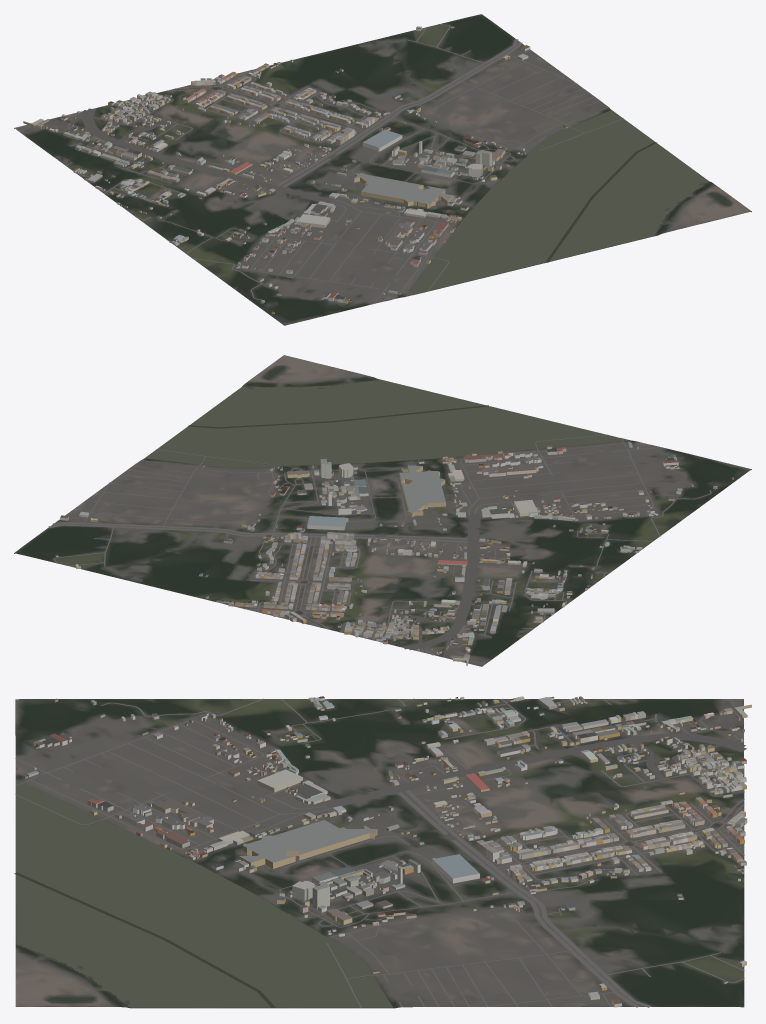
The picture shows the model from 3 angles, top to bottom: view 1: azimuth 30°, elevation 25°; view 2: azimuth 150°, elevation 25°; view 3: azimuth 270°, elevation 25°; orthographic projection. The views are drawn at different scales.
Visible parts, largest first — view 1: ground, water, buildings, roads; view 2: ground, water, buildings, roads; view 3: ground, water, buildings, roads.
Part boxes in pixels (x1,y1,x2,y2): ground: (14,14,751,325); water: (388,110,708,300); buildings: (23,26,567,314); roads: (48,24,623,303); ground: (14,355,751,666); water: (145,379,646,467); buildings: (55,441,733,665); roads: (48,434,711,662); ground: (15,699,744,1008); water: (14,768,392,1008); buildings: (23,696,751,1007); roads: (15,698,746,1007).
Bounding box in the file's own units: 1406 × 46.18 × 1418.
